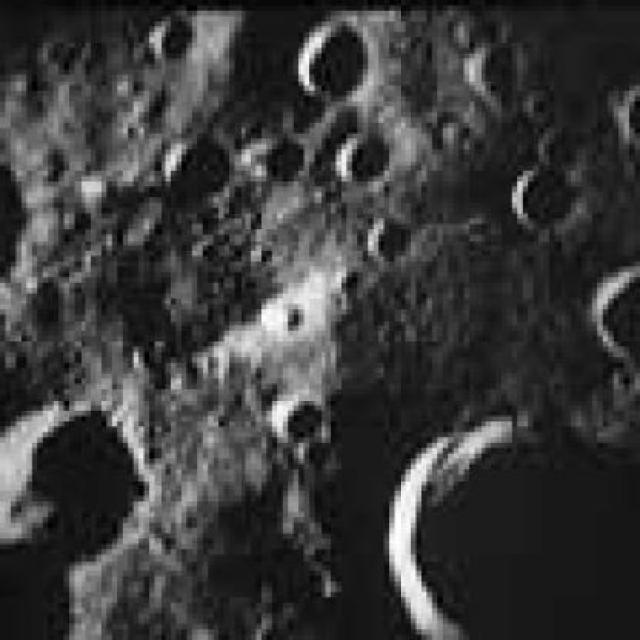crater: (415, 410, 640, 639), (0, 404, 138, 581), (296, 14, 382, 100), (600, 258, 638, 378), (510, 168, 576, 228), (168, 133, 229, 196), (334, 136, 394, 187), (252, 133, 305, 184), (274, 400, 324, 443), (146, 16, 189, 64), (370, 222, 412, 262)
